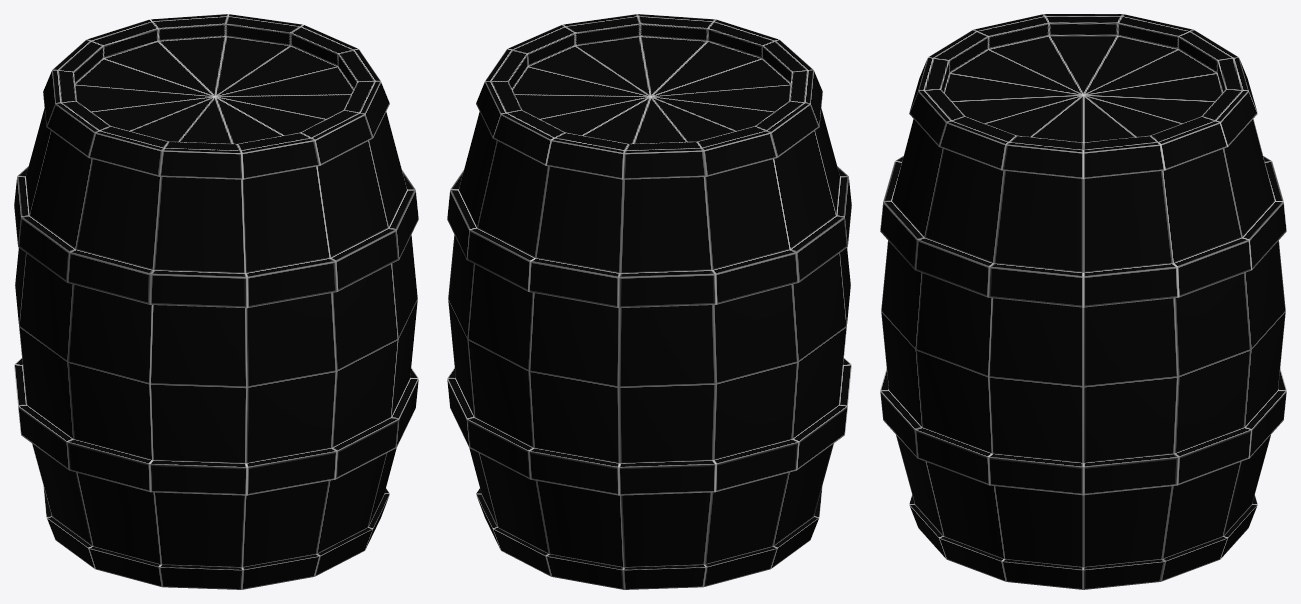
The model's file is Barrel.fbx.
3 views of the same model, side by side, from view 1: azimuth 30°, elevation 25°; view 2: azimuth 150°, elevation 25°; view 3: azimuth 270°, elevation 25° (orthographic).
Visible parts, largest first — view 1: Barrel; view 2: Barrel; view 3: Barrel.
Boxes of the visible parts, x1,y1,x2,y2 form: Barrel: (14, 14, 418, 589); Barrel: (447, 14, 851, 589); Barrel: (880, 14, 1286, 589).
Bounding box in the file's own units: 2.51 × 3 × 2.53.
